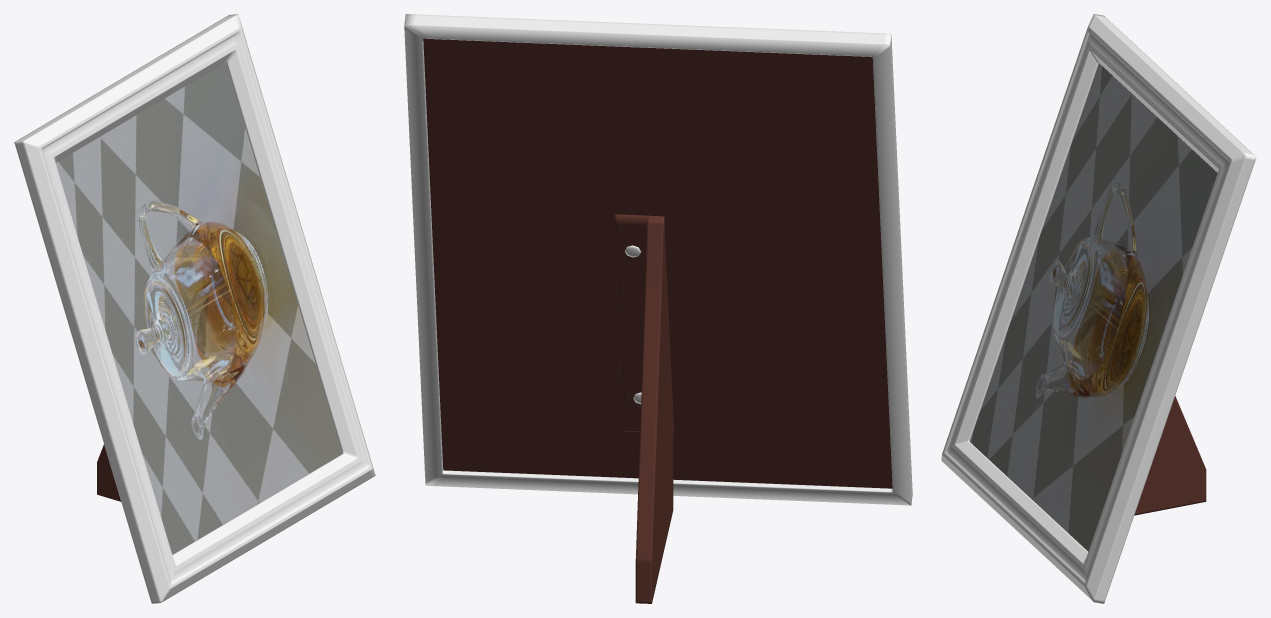
The model's file is picture.glb.
3 views of the same model, side by side, from view 1: azimuth 30°, elevation 25°; view 2: azimuth 150°, elevation 25°; view 3: azimuth 270°, elevation 25° (orthographic). The views are drawn at different scales.
Visible parts, largest first — view 1: Picture, PictureFrame; view 2: PictureFrame; view 3: Picture, PictureFrame.
Boxes of the visible parts, x1,y1,x2,y2 form: Picture: (55, 62, 342, 554); PictureFrame: (14, 14, 375, 603); PictureFrame: (404, 14, 912, 603); Picture: (969, 63, 1217, 551); PictureFrame: (941, 14, 1256, 603).
Size of the model in its own units: 0.1668 by 0.1896 by 0.1287.
Materials: 2 (2 with a texture image).
